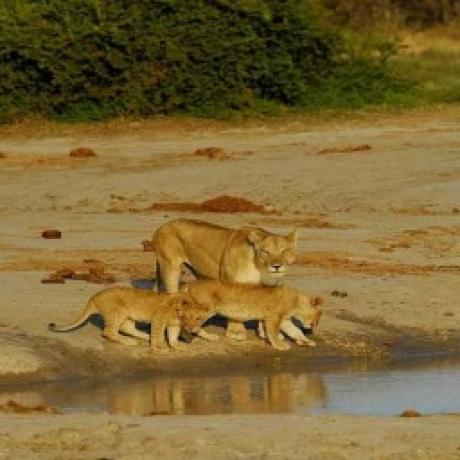Lion: (50, 281, 206, 350), (186, 279, 324, 352), (148, 220, 300, 283)
